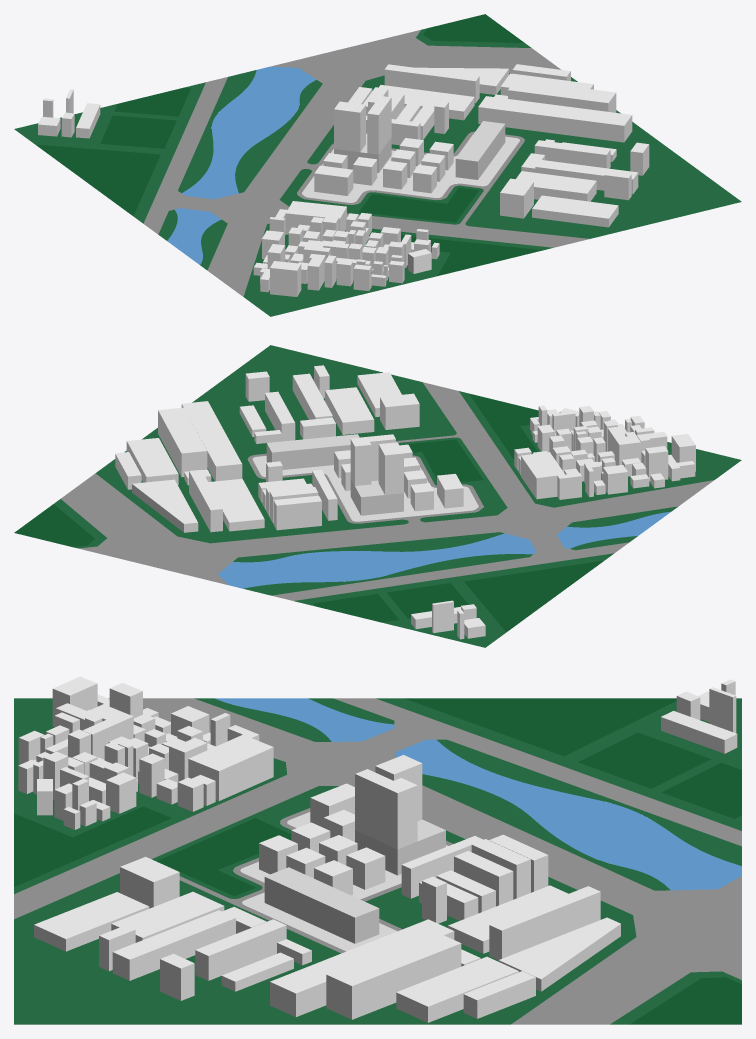
Rendered from RhinoModel0316.glb.
3 views of the same model, one above another, from view 1: azimuth 30°, elevation 25°; view 2: azimuth 150°, elevation 25°; view 3: azimuth 270°, elevation 25° (orthographic). The views are drawn at different scales.
Parts seen in each view (by area): view 1: road, ground.003, water, building.091, green.006, ground.004, ground.001, site, building.092, green.007, building.079, green.001 (+35 smaller); view 2: road, ground.003, water, green.006, ground.004, ground.001, building.091, building.092, site, skirt, building.018, green.001 (+37 smaller); view 3: road, ground.003, water, green.006, ground.004, building.092, ground.001, green.001, skirt, building.079, building.091, green.007 (+56 smaller).
Part boxes in pixels (<box>): road: <box>143,30,588,296</box>; ground.003: <box>307,73,741,238</box>; water: <box>181,66,316,199</box>; building.091: <box>478,96,632,142</box>; green.006: <box>36,144,160,216</box>; ground.004: <box>14,82,205,223</box>; ground.001: <box>243,223,553,316</box>; site: <box>302,135,519,202</box>; building.092: <box>508,79,616,112</box>; green.007: <box>359,187,478,222</box>; building.079: <box>384,64,479,103</box>; green.001: <box>401,235,542,276</box>; road: <box>61,382,714,600</box>; ground.003: <box>95,345,456,543</box>; water: <box>218,533,536,588</box>; green.006: <box>464,560,603,632</box>; ground.004: <box>294,553,613,647</box>; ground.001: <box>459,391,741,507</box>; building.091: <box>181,401,242,481</box>; building.092: <box>158,407,207,477</box>; site: <box>252,456,478,521</box>; skirt: <box>266,434,359,469</box>; building.018: <box>521,452,581,499</box>; green.001: <box>469,393,538,458</box>; road: <box>14,698,741,1024</box>; ground.003: <box>14,830,636,1024</box>; water: <box>395,739,741,890</box>; green.006: <box>404,698,676,756</box>; ground.004: <box>376,698,741,830</box>; building.092: <box>326,932,461,1019</box>; ground.001: <box>14,698,286,893</box>; green.001: <box>14,806,171,887</box>; skirt: <box>264,867,379,943</box>; building.079: <box>489,886,600,960</box>; building.091: <box>270,919,454,1016</box>; green.007: <box>157,818,291,896</box>.
Size of the model in its own units: 561 by 66 by 529.
